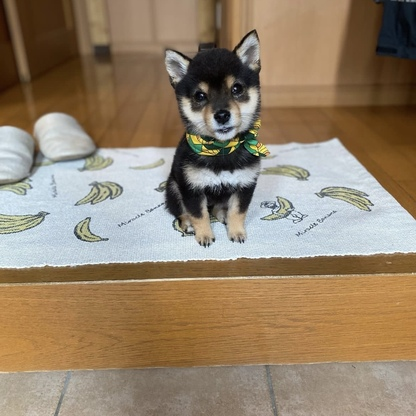shiba: (156, 23, 270, 250)
